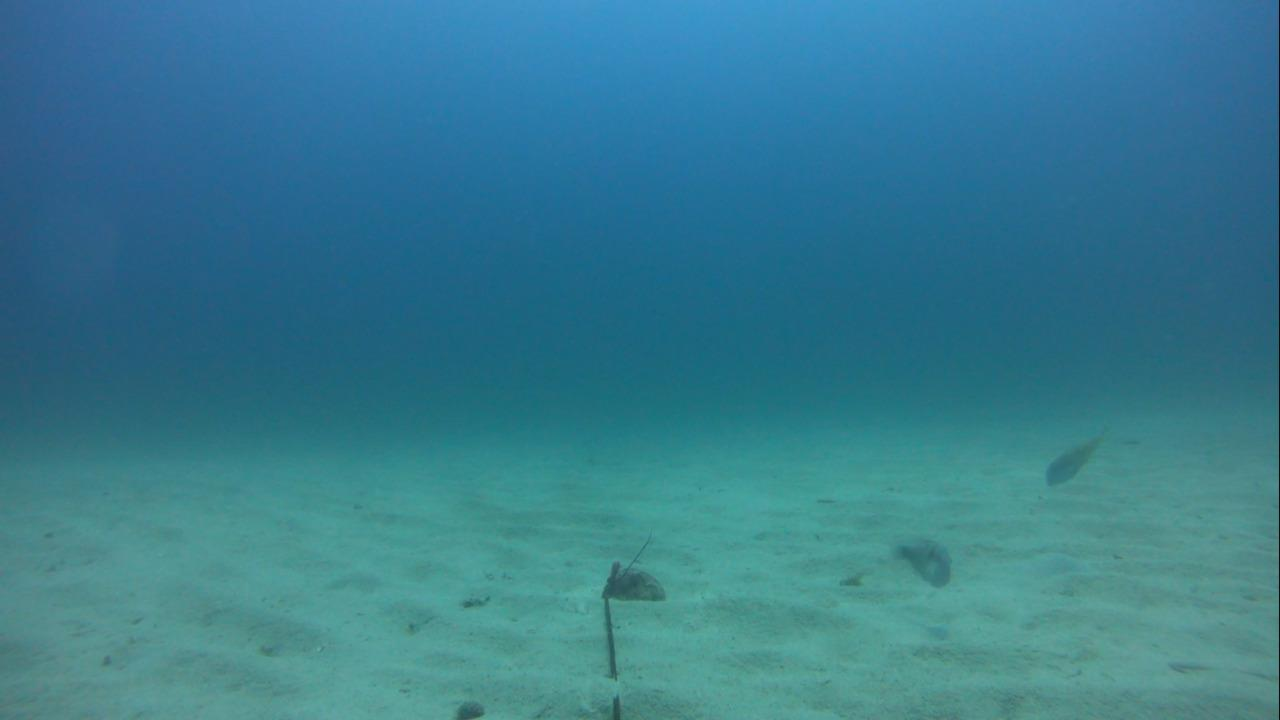raor: (1041, 419, 1113, 490), (884, 534, 954, 593)
